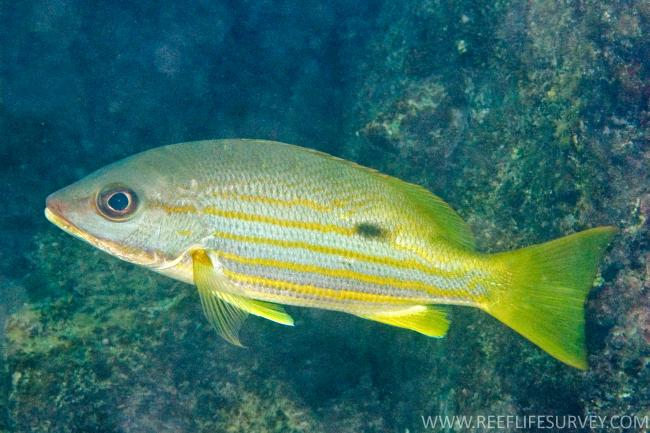fish: (44, 138, 618, 373)
